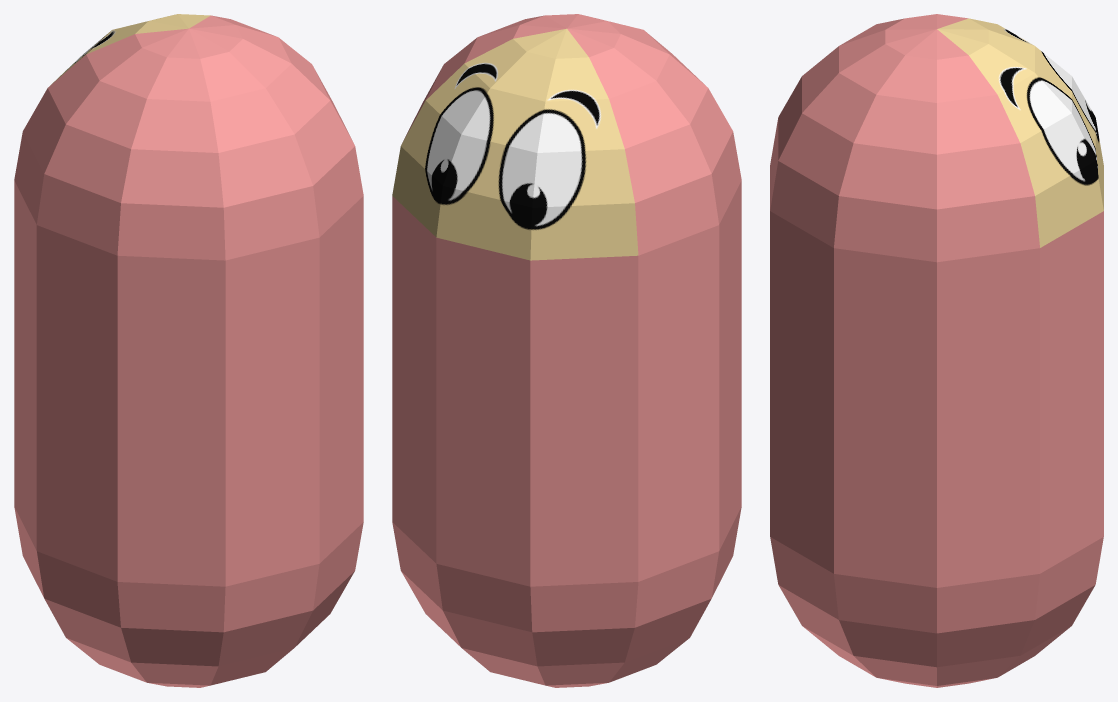
Rendered from Character_capsule.fbx.
The picture shows the model from 3 angles, left to right: view 1: azimuth 30°, elevation 25°; view 2: azimuth 150°, elevation 25°; view 3: azimuth 270°, elevation 25°; orthographic projection.
Parts seen in each view (by area): view 1: pSphere1; view 2: pSphere1; view 3: pSphere1.
Part boxes in pixels (x1,y1,x2,y2): pSphere1: (14,14,363,687); pSphere1: (392,14,741,687); pSphere1: (770,14,1103,687).
Size of the model in its own units: 4.72 by 9.54 by 4.48.
